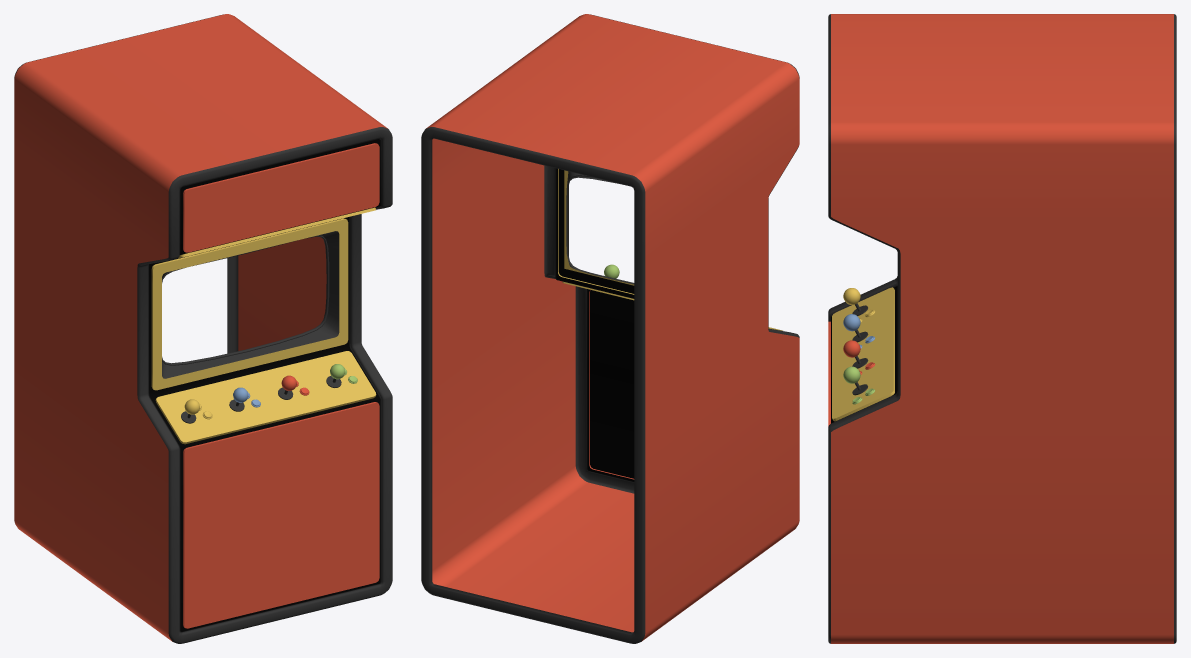
The model's file is IVGD Arcade No Backside.fbx.
3 views of the same model, side by side, from view 1: azimuth 30°, elevation 25°; view 2: azimuth 150°, elevation 25°; view 3: azimuth 270°, elevation 25° (orthographic). The views are drawn at different scales.
Visible parts, largest first — view 1: IVGD Arcade Box No back side; view 2: IVGD Arcade Box No back side; view 3: IVGD Arcade Box No back side.
Boxes of the visible parts, x1=… form: IVGD Arcade Box No back side: x1=14, y1=14, x2=392, y2=643; IVGD Arcade Box No back side: x1=421, y1=14, x2=799, y2=643; IVGD Arcade Box No back side: x1=828, y1=14, x2=1176, y2=643.
Size of the model in its own units: 124 by 248 by 151.
